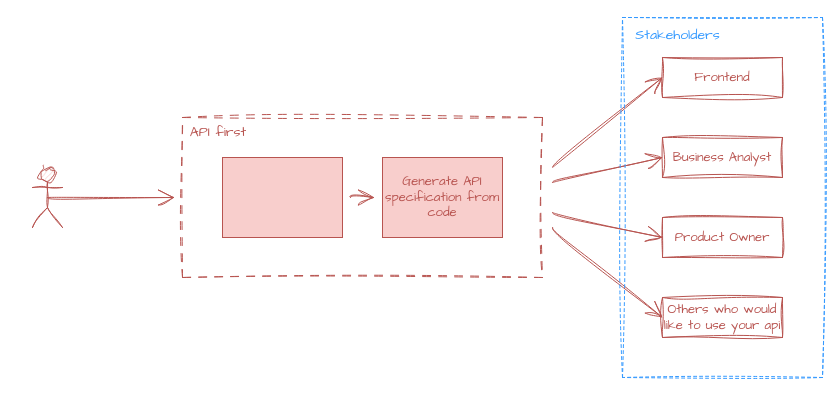
Some shapes in this 840 by 395 pixel diagram are drawn without their labels. Each missing label, with the centre of its shape:
"Developer" goes at (x=47, y=197).
"Write code that would generate the API specification" goes at (x=282, y=197).
